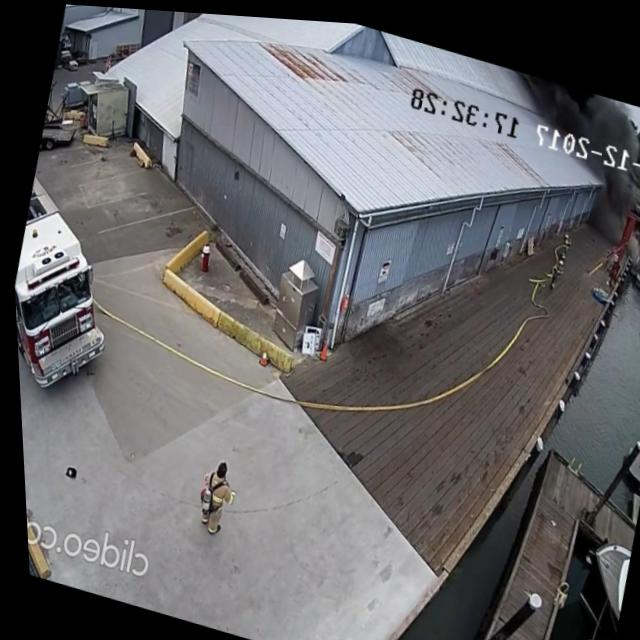fire: (630, 214, 640, 244)
